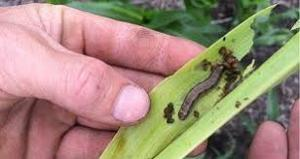fallarmy_worm: (174, 60, 226, 121)
